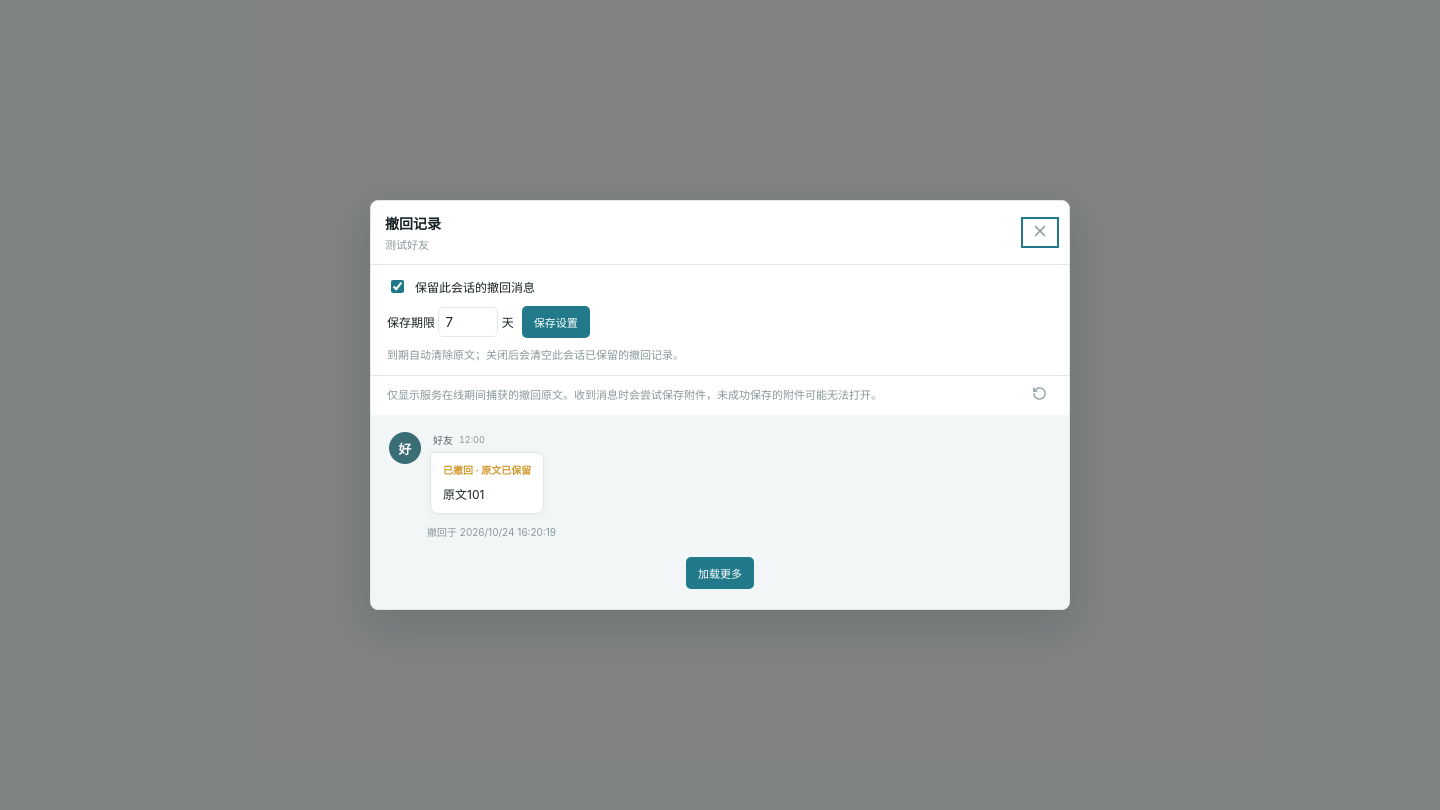
RecallArchiveDialog › loads retained private-chat originals, filters expired records and paginates
This screenshot has width=1440, height=810.
Step 1. Click the button with class "load-more" → [720, 573], box x1=686 y1=557 x2=754 y2=589
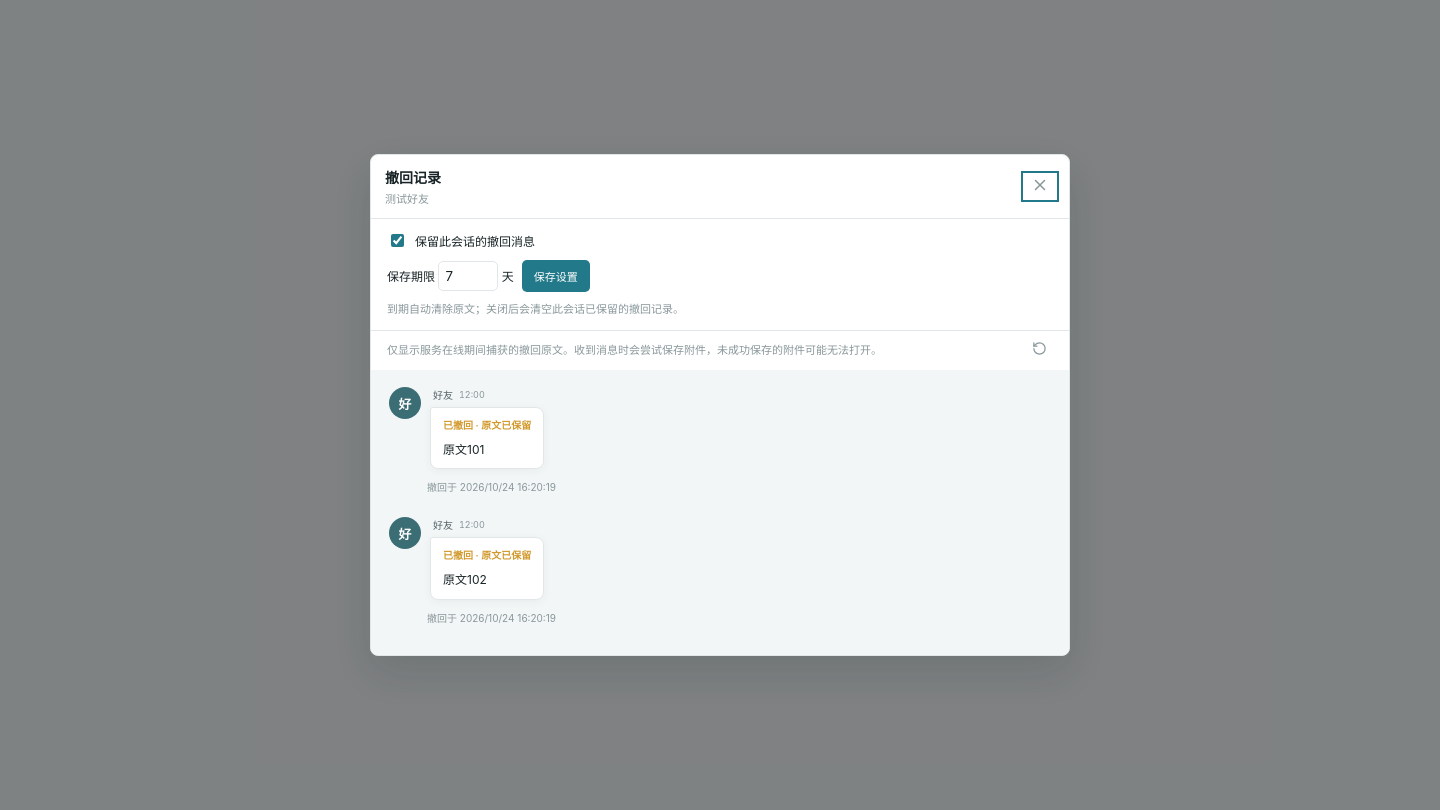
Expected: the text "原文101" is shown, x1=443 y1=442 x2=484 y2=456
Result: the text "原文102" is shown at x1=443 y1=572 x2=487 y2=587
